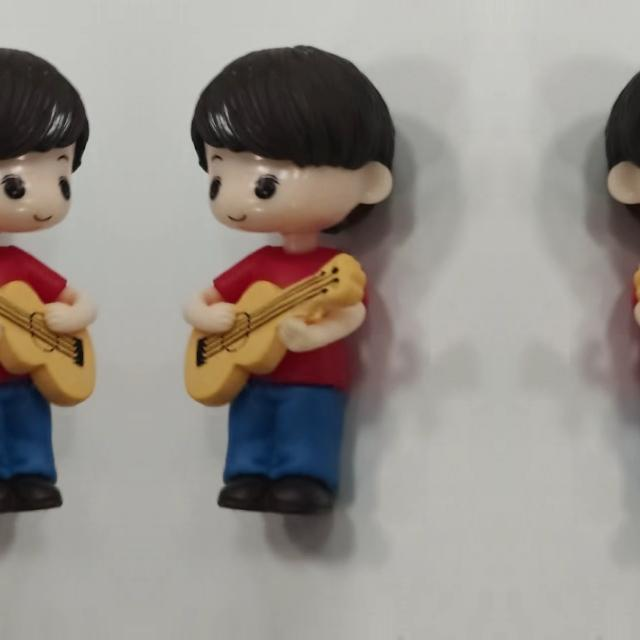man cloth: (186, 242, 372, 391), (0, 241, 93, 390), (628, 241, 640, 390)
man head: (176, 42, 420, 262), (0, 42, 103, 262), (580, 42, 640, 262)
trousers: (208, 381, 349, 524), (0, 380, 71, 523)
